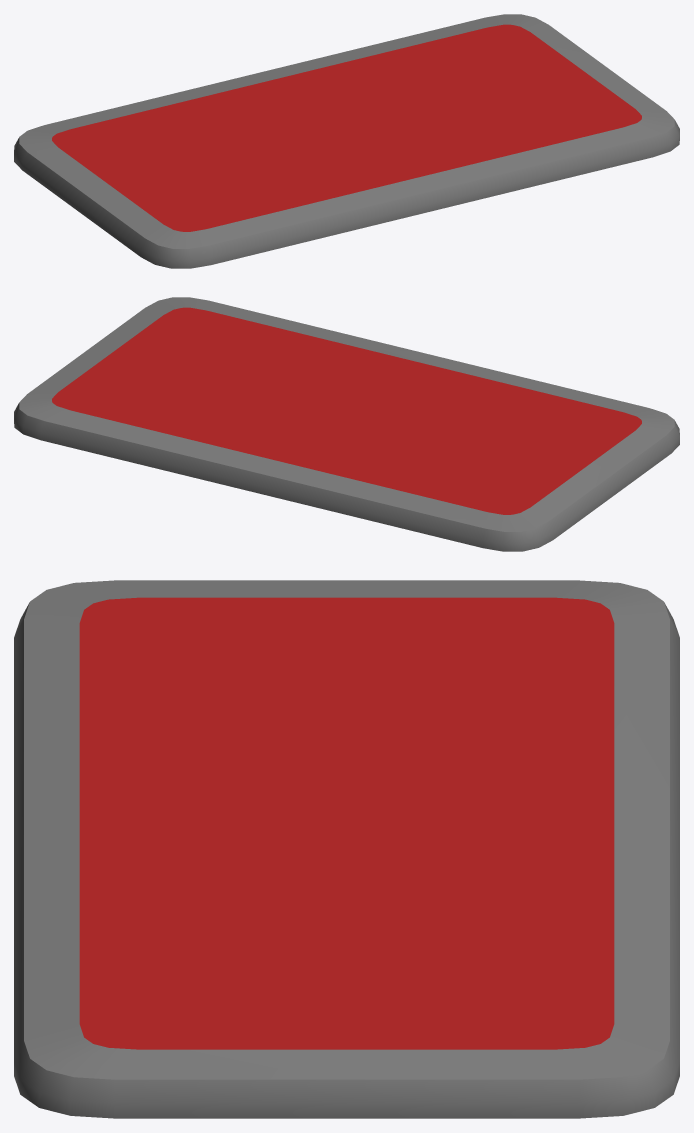
Rendered from SM_carpet_03.fbx.
3 renders of one model, top to bottom at view 1: azimuth 30°, elevation 25°; view 2: azimuth 150°, elevation 25°; view 3: azimuth 270°, elevation 25°, orthographic. The views are drawn at different scales.
Visible parts, largest first — view 1: Box345; view 2: Box345; view 3: Box345.
Boxes of the visible parts, x1,y1,x2,y2 form: Box345: [14, 14, 679, 268]; Box345: [14, 297, 679, 551]; Box345: [14, 580, 679, 1118].
Bounding box in the file's own units: 99.17 × 3.73 × 54.95.
